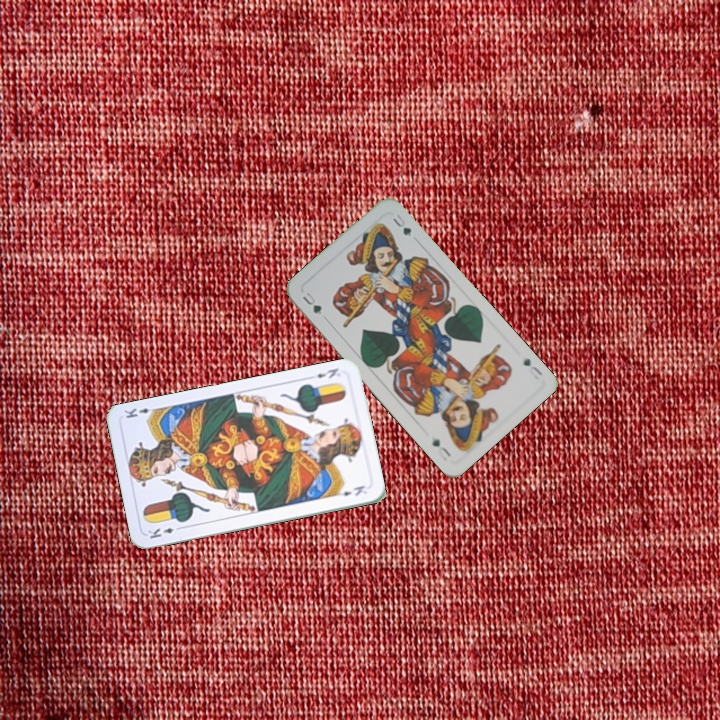EK: (144, 522, 185, 541), (313, 364, 343, 381)
GU: (298, 288, 325, 317), (519, 354, 545, 382)
